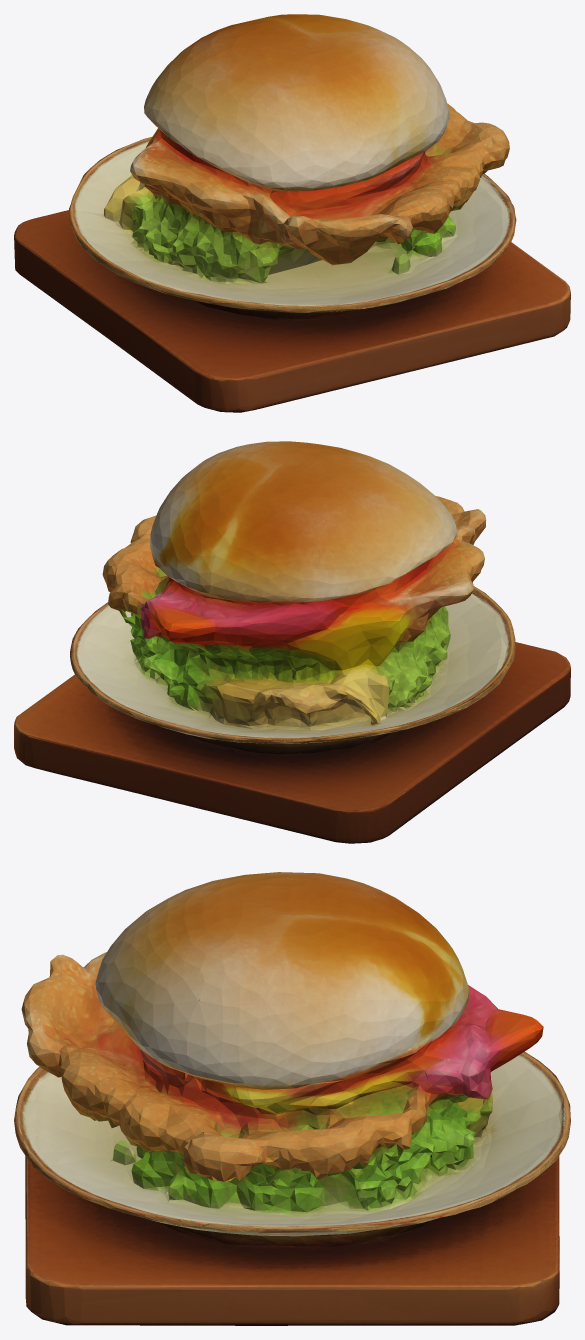
File: tikka_burger.glb
The picture shows the model from 3 angles, top to bottom: view 1: azimuth 30°, elevation 25°; view 2: azimuth 150°, elevation 25°; view 3: azimuth 270°, elevation 25°; orthographic projection. The views are drawn at different scales.
Parts seen in each view (by area): view 1: world; view 2: world; view 3: world.
Part boxes in pixels (x1,y1,x2,y2): world: (14,14,570,412); world: (14,441,570,843); world: (14,872,570,1325).
Bounding box in the file's own units: 0.4755 × 0.3073 × 0.4952.
Materials: 1 (1 with a texture image).
